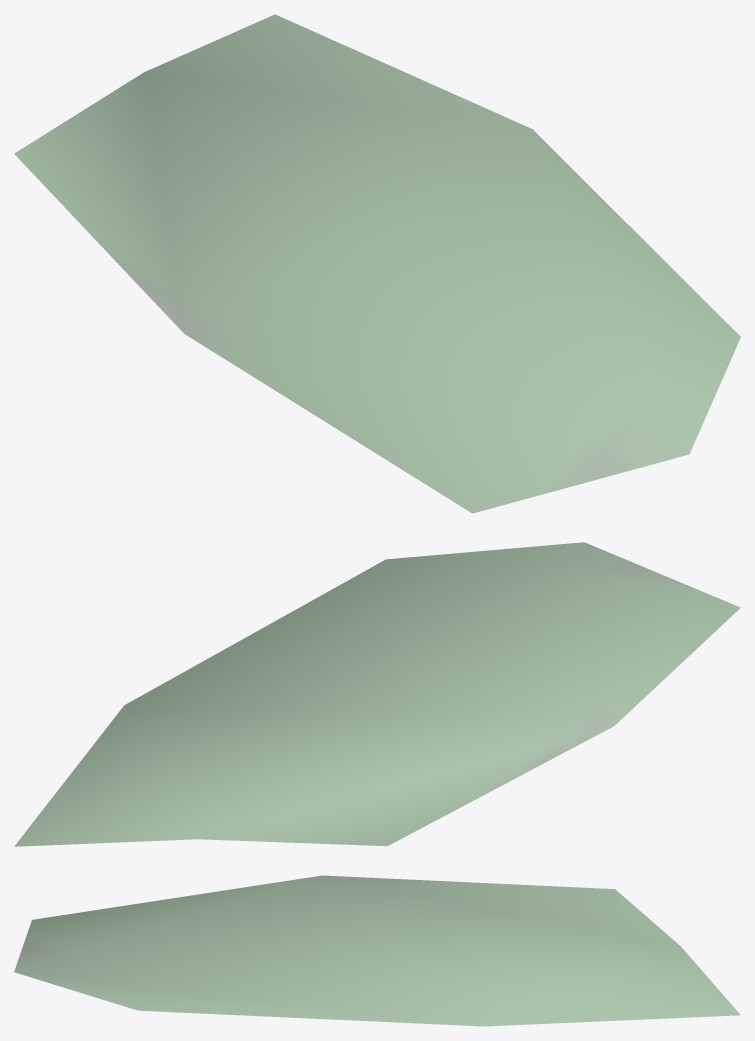
Rendered from TROLLHOLE02_HOLECAP75.fbx.
3 views of the same model, one above another, from view 1: azimuth 30°, elevation 25°; view 2: azimuth 150°, elevation 25°; view 3: azimuth 270°, elevation 25° (orthographic). The views are drawn at different scales.
Parts seen in each view (by area): view 1: TROLLHOLE02_HOLECAP75; view 2: TROLLHOLE02_HOLECAP75; view 3: TROLLHOLE02_HOLECAP75.
Part boxes in pixels (x1,y1,x2,y2): TROLLHOLE02_HOLECAP75: [14, 14, 740, 513]; TROLLHOLE02_HOLECAP75: [14, 542, 740, 846]; TROLLHOLE02_HOLECAP75: [14, 875, 740, 1026].
Bounding box in the file's own units: 12612 × 1030 × 25637.
1 material, 1 textured.
